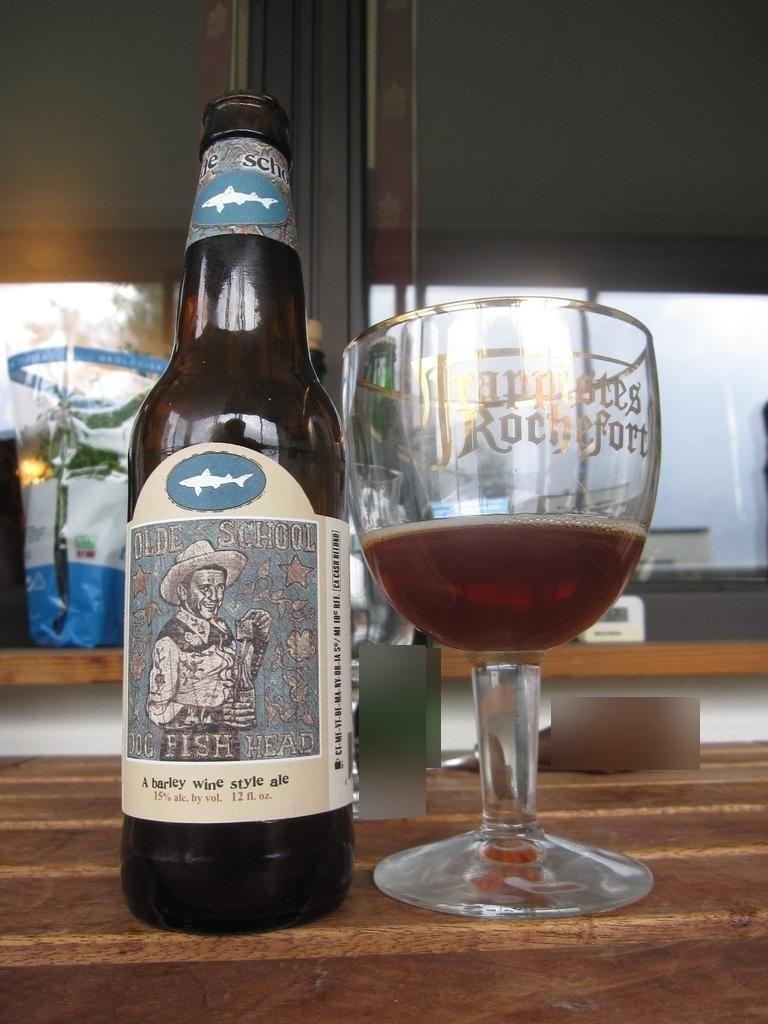bottle-glass: (109, 87, 361, 940)
glass-wine: (343, 298, 670, 910)
